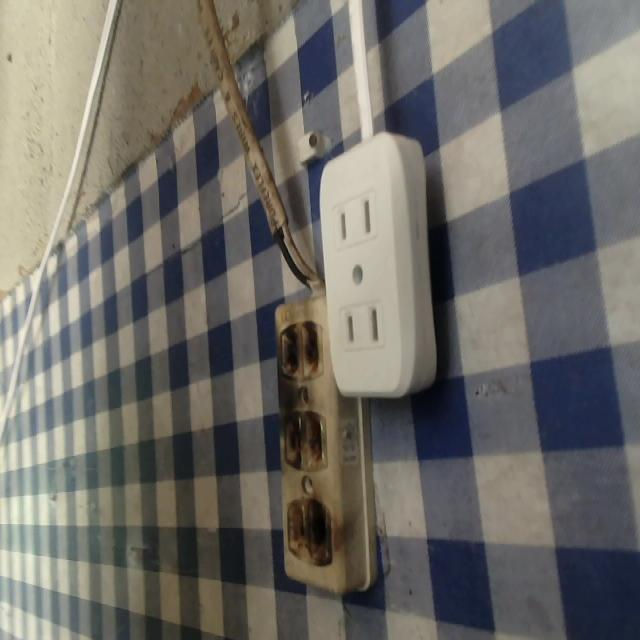-: (280, 493, 340, 571), (273, 316, 329, 384), (278, 405, 329, 471)
